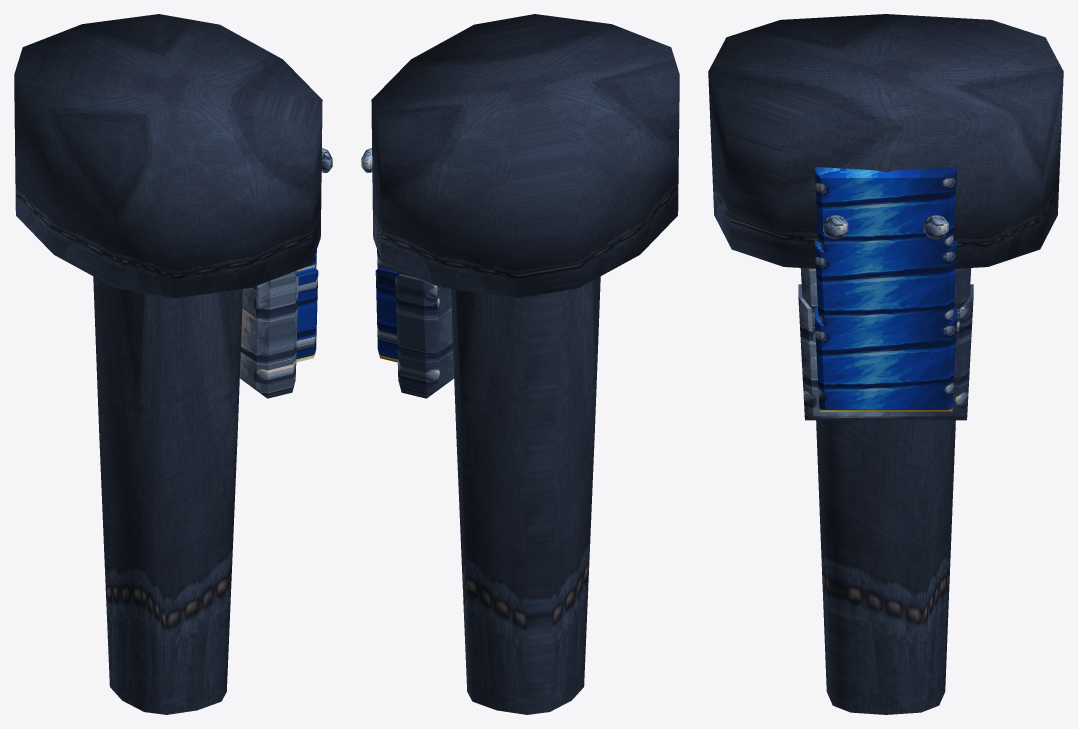
File: cobalt-pants.glb
3 views of the same model, side by side, from view 1: azimuth 30°, elevation 25°; view 2: azimuth 150°, elevation 25°; view 3: azimuth 270°, elevation 25° (orthographic). The views are drawn at different scales.
Parts seen in each view (by area): view 1: hips, leg_L; view 2: hips, leg_L; view 3: leg_L, hips.
Boxes of the visible parts, x1,y1,x2,y2 form: hips: [14, 14, 322, 298]; leg_L: [93, 148, 332, 714]; hips: [371, 14, 679, 298]; leg_L: [361, 148, 600, 714]; leg_L: [798, 167, 973, 714]; hips: [708, 14, 1063, 268].
Size of the model in its own units: 0.2026 by 0.4619 by 0.24.
3 materials, 3 textured.
